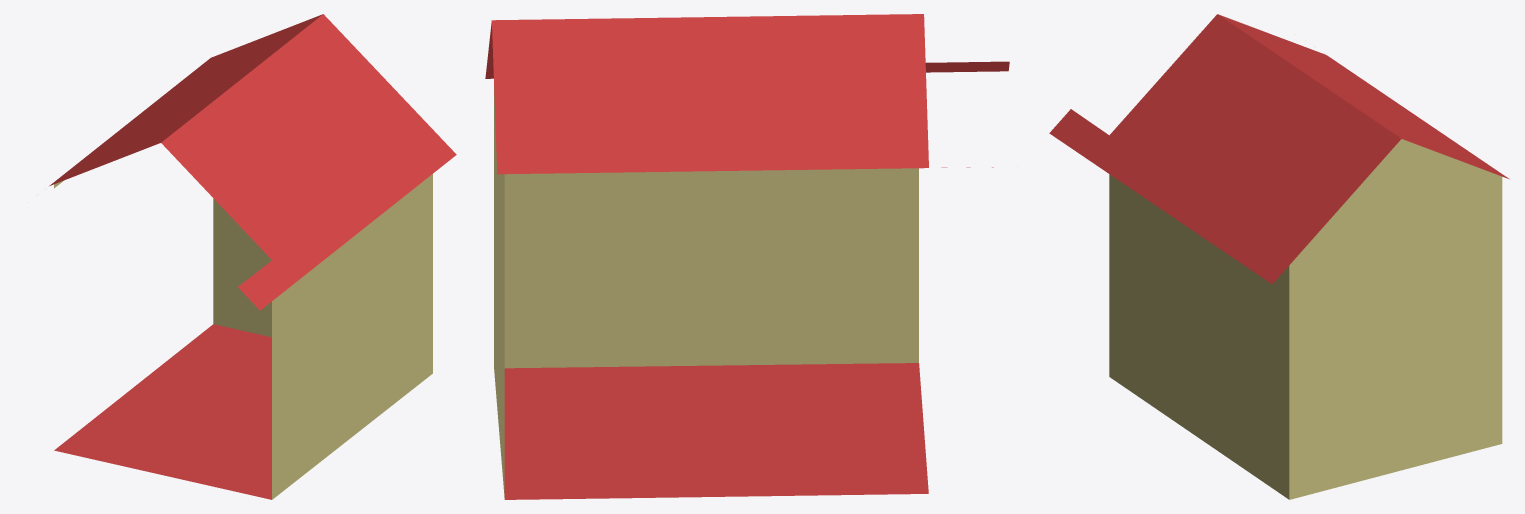
3 renders of one model, left to right at view 1: azimuth 30°, elevation 25°; view 2: azimuth 150°, elevation 25°; view 3: azimuth 270°, elevation 25°, orthographic. The views are drawn at different scales.
Size of the model in its own units: 20.47 by 18.66 by 14.93.
